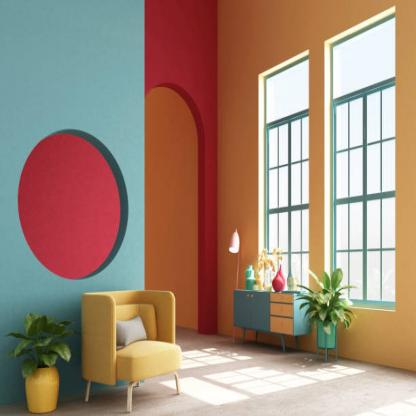Window: (332, 18, 394, 313), (263, 57, 309, 299)
